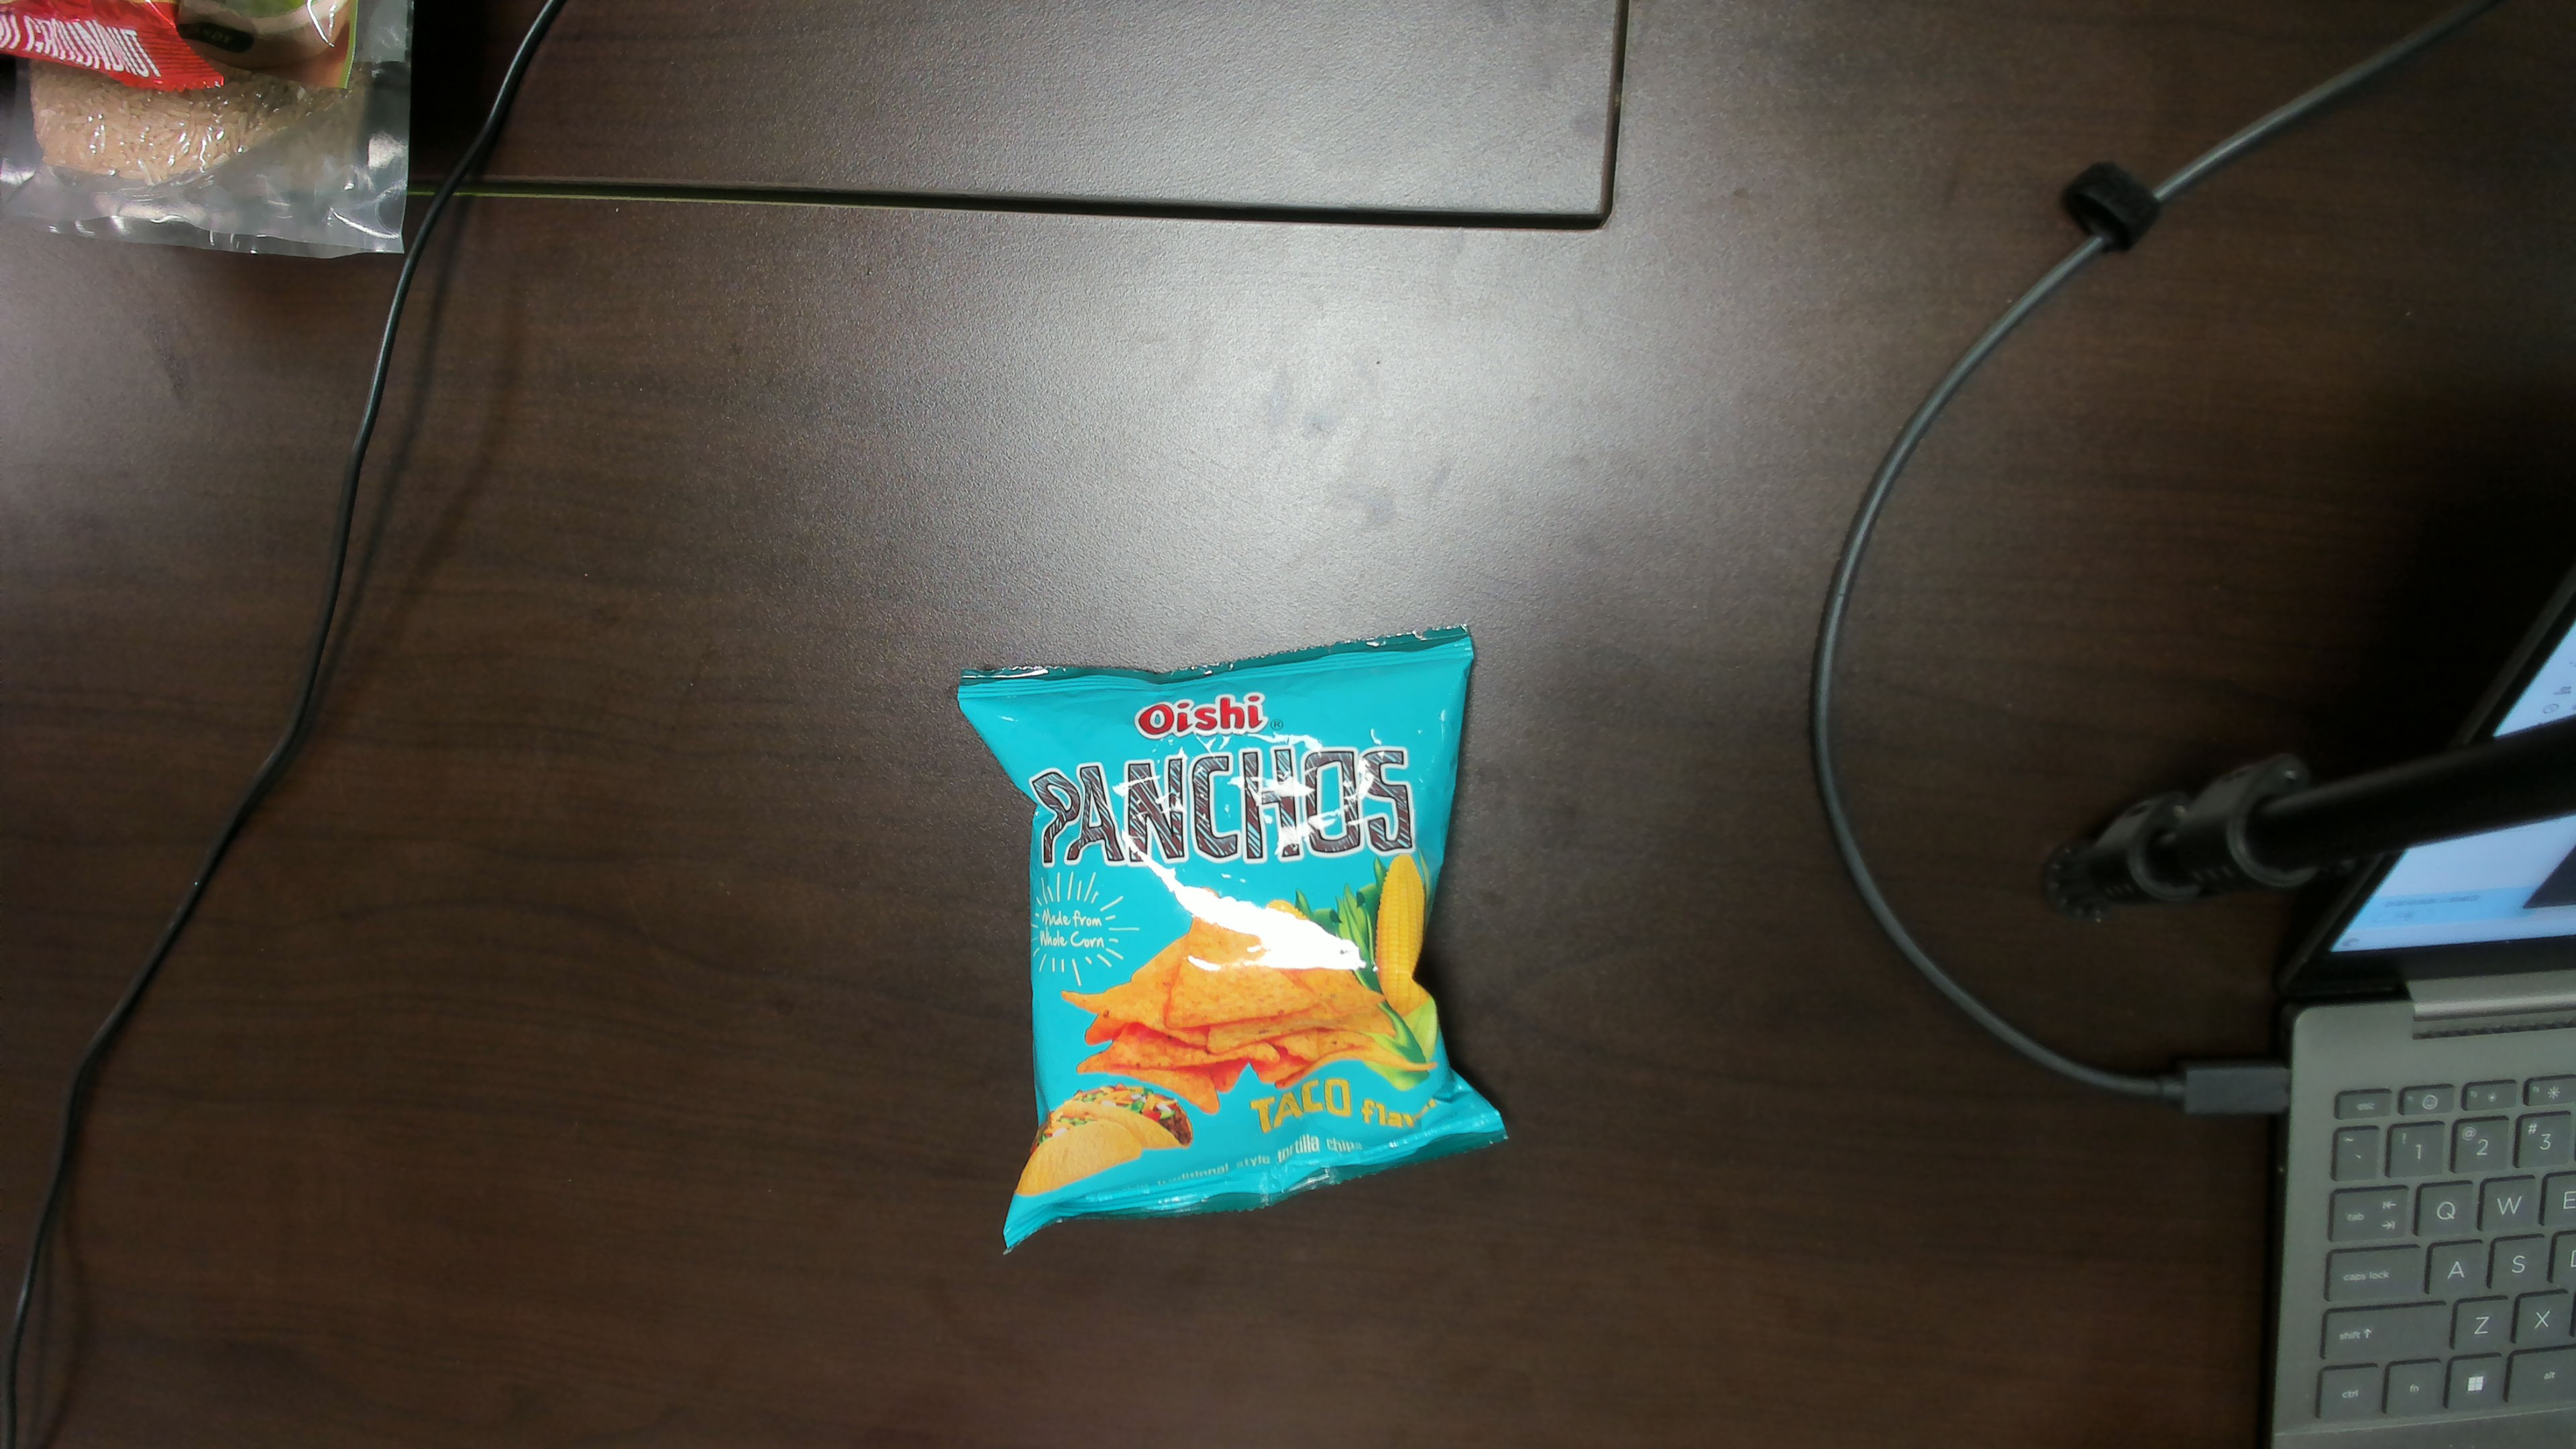PotatochipsKeropok_1-99g_NonHalal_NonHealthy: (1026, 679, 1438, 1189)
